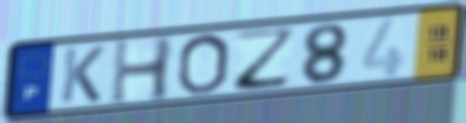4: (359, 15, 408, 79)
8: (299, 21, 351, 86)
H: (108, 34, 177, 107)
K: (57, 44, 108, 105)
O: (174, 31, 233, 97)
Z: (233, 24, 298, 93)
